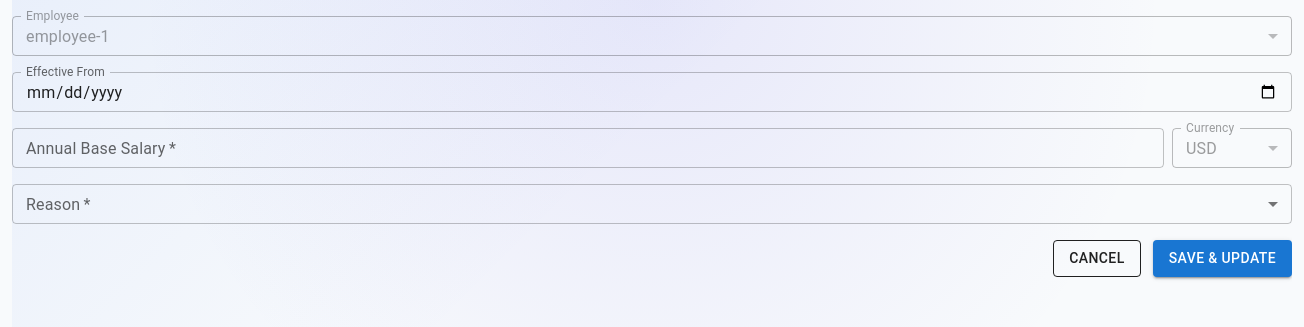
it: SalaryUpdateForm › validates reason
Type "125000" into the number field labelled "Annual Base Salary *" at (588, 148), box [12, 128, 1164, 168]
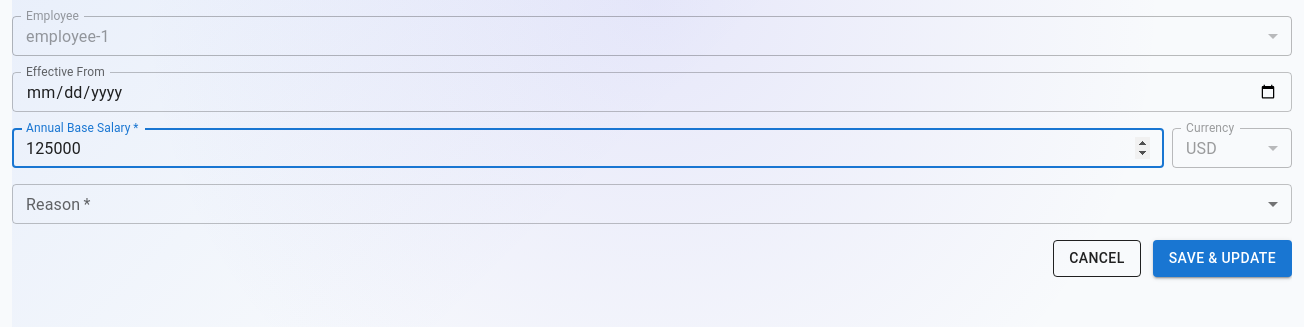
Type "2026-03-01" into the date field labelled "Effective From" at (652, 92), box [12, 72, 1292, 112]
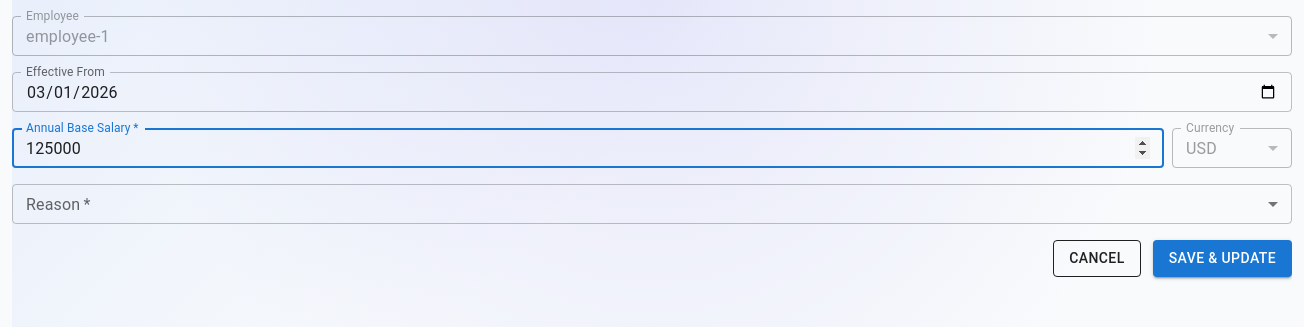
Click the button "Save & Update" at (1222, 258), box [1153, 240, 1292, 276]
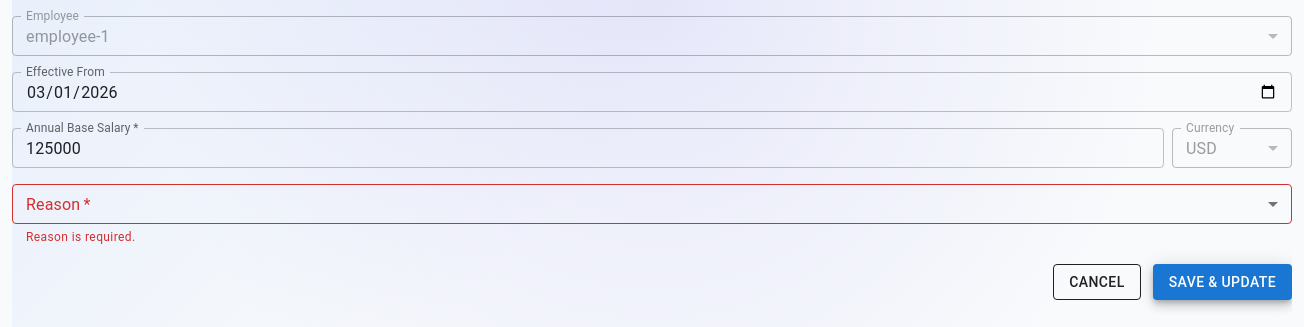
Check: the text "Reason is required." is shown, box [26, 230, 136, 244]
